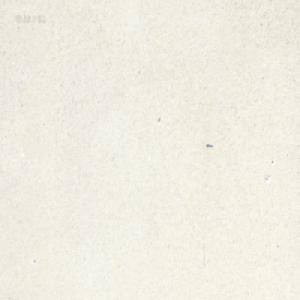Nail: (206, 142, 213, 147)
